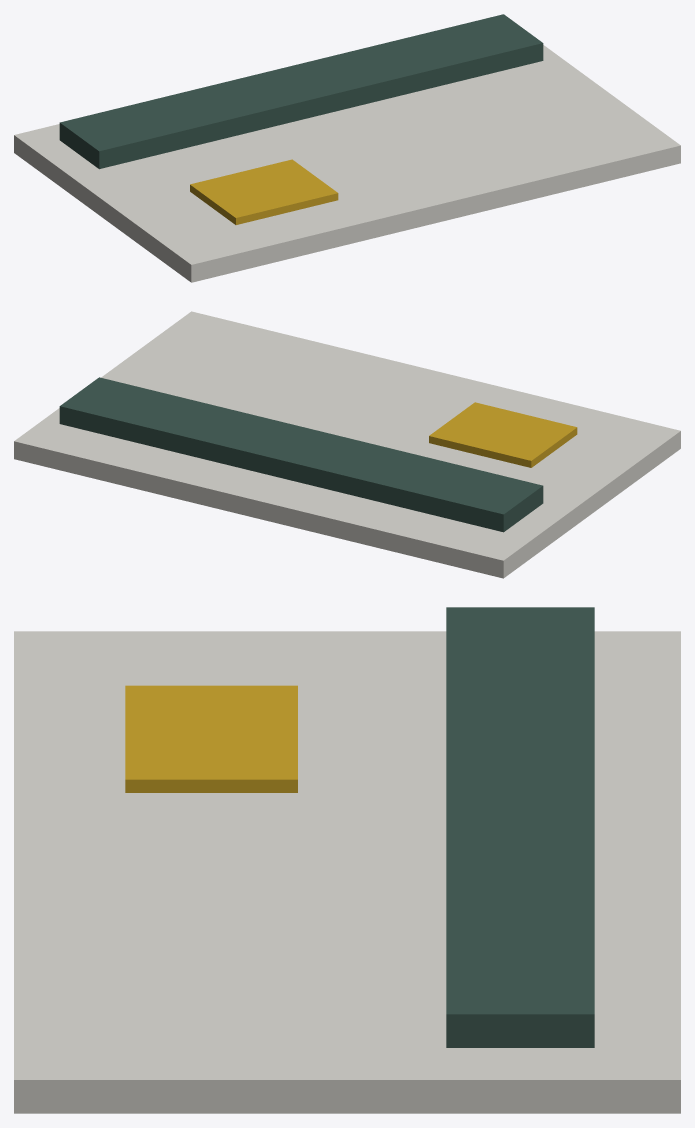
The model's file is prop_keycard_bank.glb.
The picture shows the model from 3 angles, top to bottom: view 1: azimuth 30°, elevation 25°; view 2: azimuth 150°, elevation 25°; view 3: azimuth 270°, elevation 25°; orthographic projection. The views are drawn at different scales.
Visible parts, largest first — view 1: Card; view 2: Card; view 3: Card.
Boxes of the visible parts, x1,y1,x2,y2 form: Card: (14,14,680,282); Card: (14,311,680,578); Card: (14,607,680,1113).
Size of the model in its own units: 0.086 by 0.007 by 0.054.
